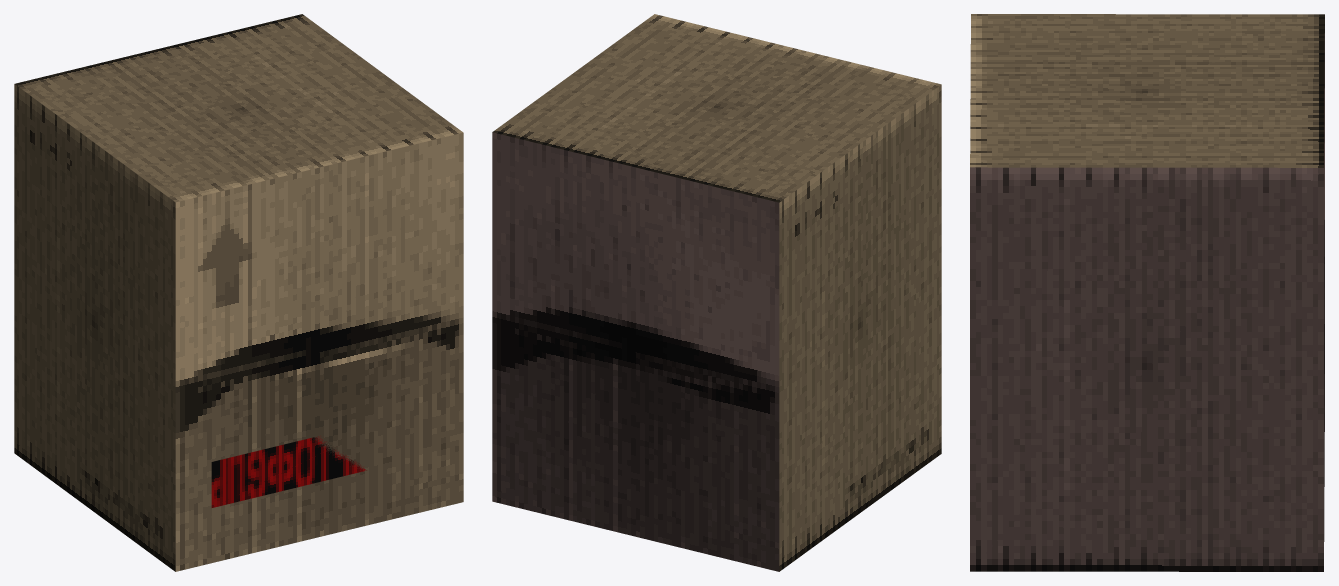
The model's file is primary_204.glb.
3 views of the same model, side by side, from view 1: azimuth 30°, elevation 25°; view 2: azimuth 150°, elevation 25°; view 3: azimuth 270°, elevation 25° (orthographic). The views are drawn at different scales.
Parts seen in each view (by area): view 1: Object; view 2: Object; view 3: Object.
Part boxes in pixels (x1,y1,x2,y2): Object: (14,14,463,571); Object: (492,14,941,571); Object: (970,14,1324,571).
Size of the model in its own units: 0.8747 by 1.07 by 0.8527.
7 materials, 7 textured.
